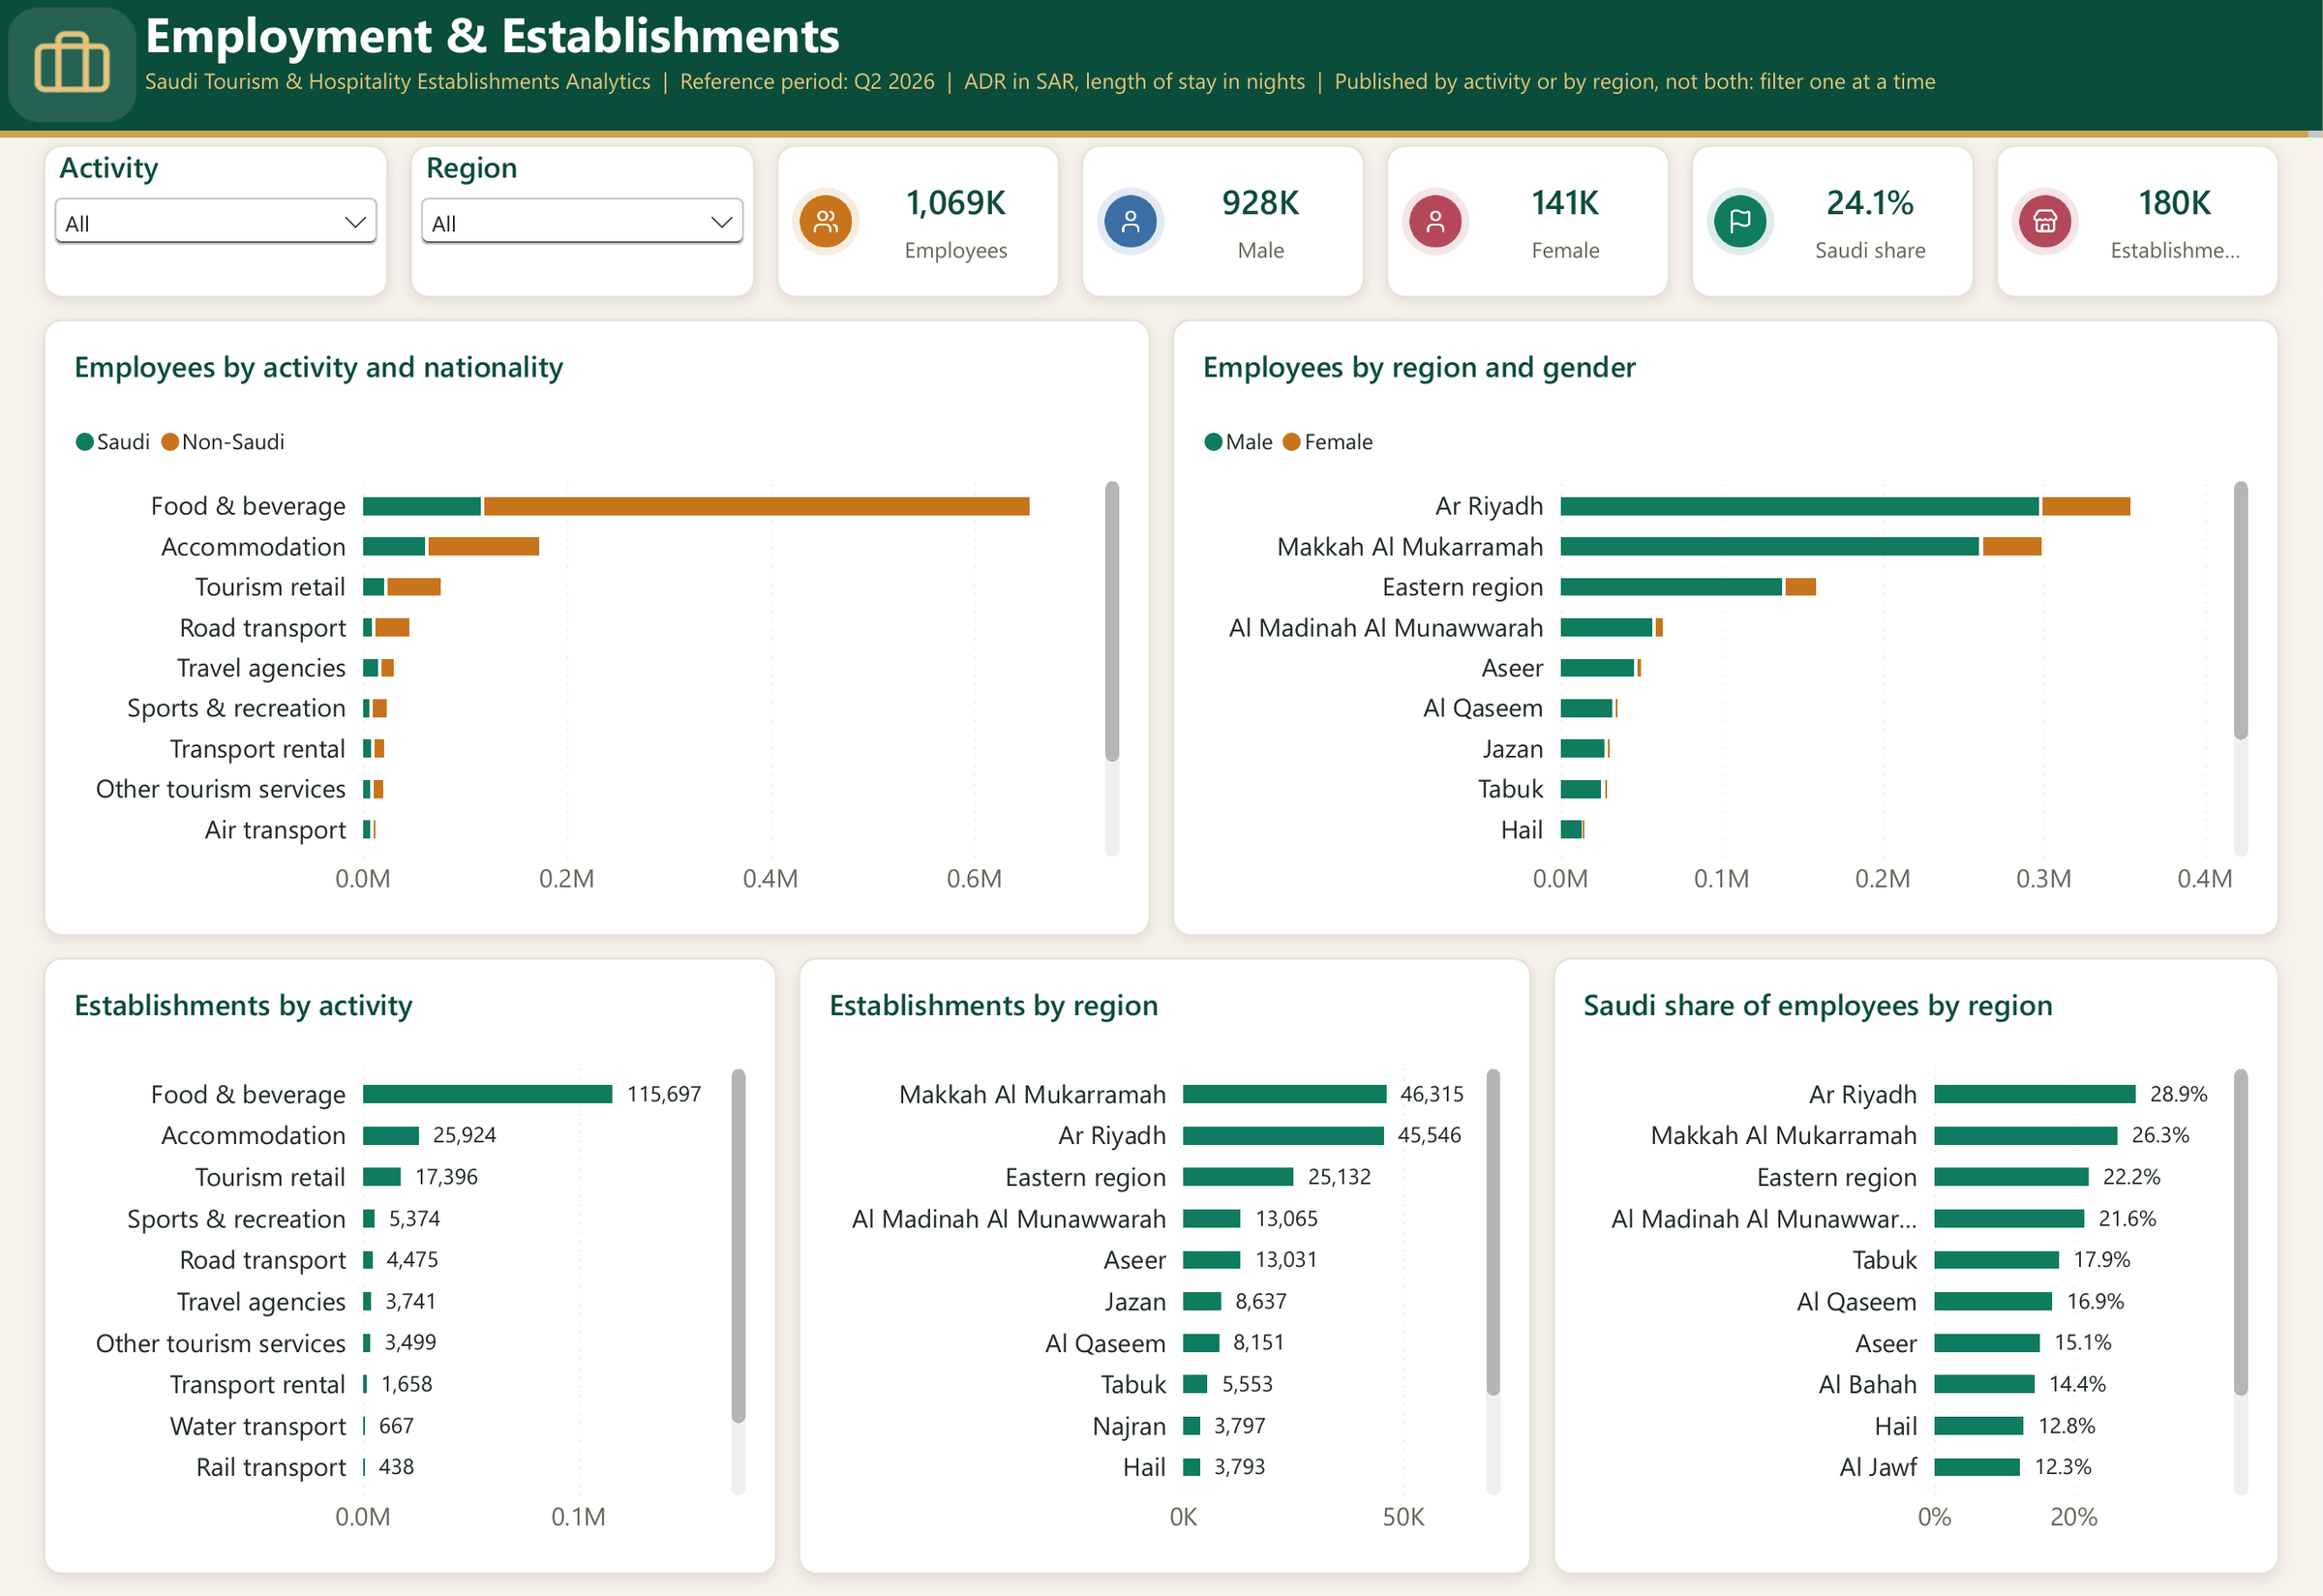

This screenshot's page, from the dashboard's own definition file:
{"tool":"powerbi","page":{"name":"Employment & Establishments","canvas":[1280,880],"ordinal":3},"visuals":[{"type":"textbox","box":[80,0,1200,72],"z":0},{"type":"image","box":[0,0,80,72],"z":1},{"type":"textbox","box":[0,72,1280,4],"z":2},{"type":"slicer","fields":{"Values":["Dim_Activity.Activity_Short"]},"box":[24,80,190,84],"z":1000},{"type":"slicer","fields":{"Values":["Dim_Region.Region"]},"box":[226,80,190,84],"z":2000},{"type":"textbox","box":[428,80,156,84],"z":2998},{"type":"card","fields":{"Values":["_Measures.Total Employees"]},"box":[474,80,106,84],"z":3000},{"type":"image","box":[436,103,38,38],"z":3001},{"type":"textbox","box":[596,80,156,84],"z":3998},{"type":"card","fields":{"Values":["_Measures.Male Employees"]},"box":[642,80,106,84],"z":4000},{"type":"image","box":[604,103,38,38],"z":4001},{"type":"textbox","box":[764,80,156,84],"z":4998},{"type":"card","fields":{"Values":["_Measures.Female Employees"]},"box":[810,80,106,84],"z":5000},{"type":"image","box":[772,103,38,38],"z":5001},{"type":"textbox","box":[932,80,156,84],"z":5998},{"type":"card","fields":{"Values":["_Measures.Saudi Share %"]},"box":[978,80,106,84],"z":6000},{"type":"image","box":[940,103,38,38],"z":6001},{"type":"textbox","box":[1100,80,156,84],"z":6998},{"type":"card","fields":{"Values":["_Measures.Total Establishments"]},"box":[1146,80,106,84],"z":7000},{"type":"image","box":[1108,103,38,38],"z":7001},{"type":"barChart","title":"Employees by activity and nationality","fields":{"Category":["Dim_Activity.Activity_Short"],"Y":["_Measures.Saudi Employees","_Measures.Non-Saudi Employees"]},"box":[24,176,610,340],"z":8000},{"type":"barChart","title":"Employees by region and gender","fields":{"Category":["Dim_Region.Region"],"Y":["_Measures.Male Employees","_Measures.Female Employees"]},"box":[646,176,610,340],"z":9000},{"type":"clusteredBarChart","title":"Establishments by activity","fields":{"Category":["Dim_Activity.Activity_Short"],"Y":["_Measures.Total Establishments"]},"box":[24,528,404,340],"z":10000},{"type":"clusteredBarChart","title":"Establishments by region","fields":{"Category":["Dim_Region.Region"],"Y":["_Measures.Total Establishments"]},"box":[440,528,404,340],"z":11000},{"type":"clusteredBarChart","title":"Saudi share of employees by region","fields":{"Category":["Dim_Region.Region"],"Y":["_Measures.Saudi Share %"]},"box":[856,528,400,340],"z":12000}]}

Visuals, with their boxes in screenshot pixels (x1, y1, x2, y2), scaled from the page's 1280x880 canvas onto the 2323x1596 screenshot:
textbox: [left=145, top=0, right=2322, bottom=131]
image: [left=0, top=0, right=145, bottom=131]
textbox: [left=0, top=131, right=2322, bottom=137]
slicer - Dim_Activity.Activity_Short: [left=44, top=145, right=388, bottom=297]
slicer - Dim_Region.Region: [left=410, top=145, right=755, bottom=297]
textbox: [left=776, top=145, right=1060, bottom=297]
card - _Measures.Total Employees: [left=860, top=145, right=1053, bottom=297]
image: [left=792, top=187, right=860, bottom=256]
textbox: [left=1082, top=145, right=1365, bottom=297]
card - _Measures.Male Employees: [left=1165, top=145, right=1357, bottom=297]
image: [left=1096, top=187, right=1165, bottom=256]
textbox: [left=1386, top=145, right=1670, bottom=297]
card - _Measures.Female Employees: [left=1470, top=145, right=1663, bottom=297]
image: [left=1402, top=187, right=1470, bottom=256]
textbox: [left=1692, top=145, right=1975, bottom=297]
card - _Measures.Saudi Share %: [left=1775, top=145, right=1967, bottom=297]
image: [left=1705, top=187, right=1775, bottom=256]
textbox: [left=1996, top=145, right=2279, bottom=297]
card - _Measures.Total Establishments: [left=2080, top=145, right=2273, bottom=297]
image: [left=2011, top=187, right=2080, bottom=256]
"Employees by activity and nationality" barChart: [left=44, top=319, right=1151, bottom=936]
"Employees by region and gender" barChart: [left=1172, top=319, right=2279, bottom=936]
"Establishments by activity" clusteredBarChart: [left=44, top=957, right=776, bottom=1575]
"Establishments by region" clusteredBarChart: [left=799, top=957, right=1531, bottom=1575]
"Saudi share of employees by region" clusteredBarChart: [left=1554, top=957, right=2279, bottom=1575]
